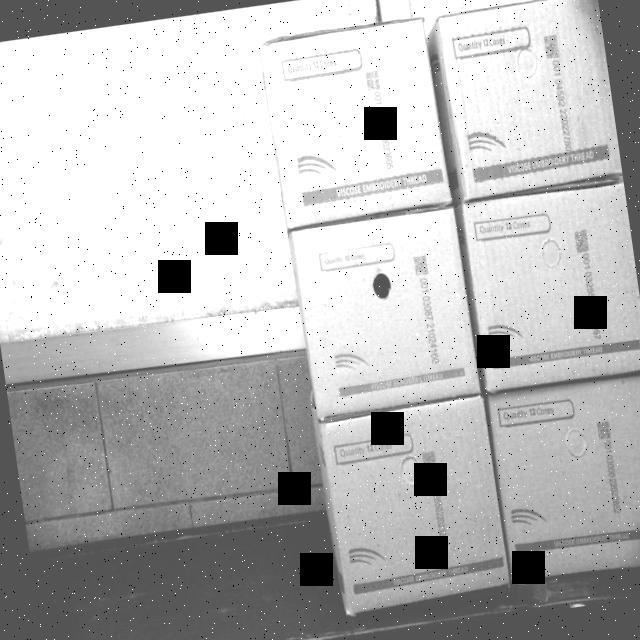box: (258, 18, 451, 226), (292, 208, 480, 416), (321, 401, 508, 608), (463, 178, 640, 390), (436, 0, 619, 194), (488, 370, 640, 584)
